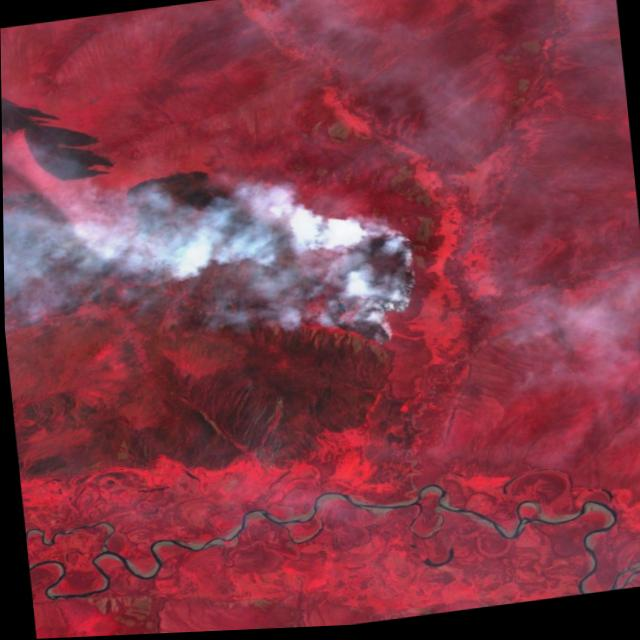fire: (325, 214, 431, 359)
